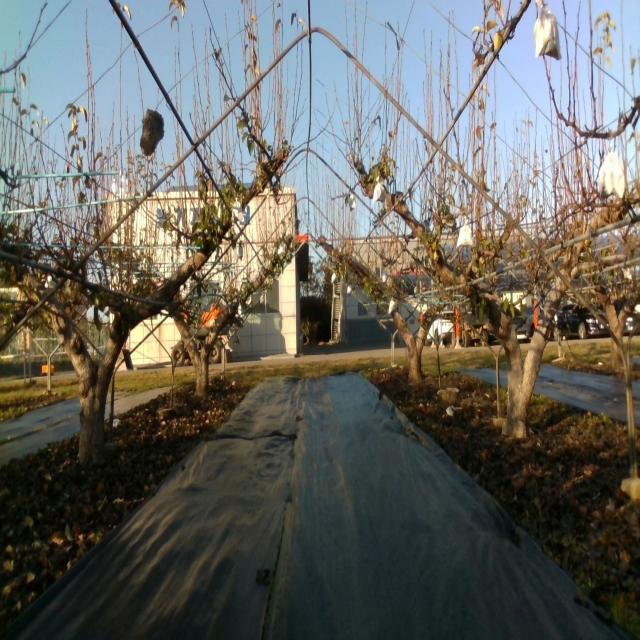pearbags: (532, 0, 561, 60), (597, 149, 627, 202), (456, 221, 473, 251), (231, 198, 245, 225), (372, 175, 384, 204)
